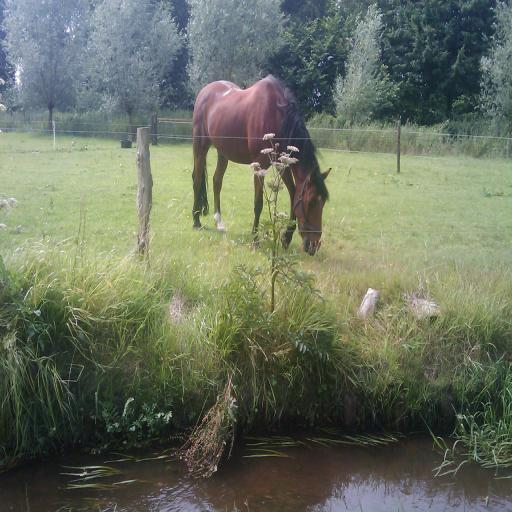horse: (191, 73, 333, 257)
